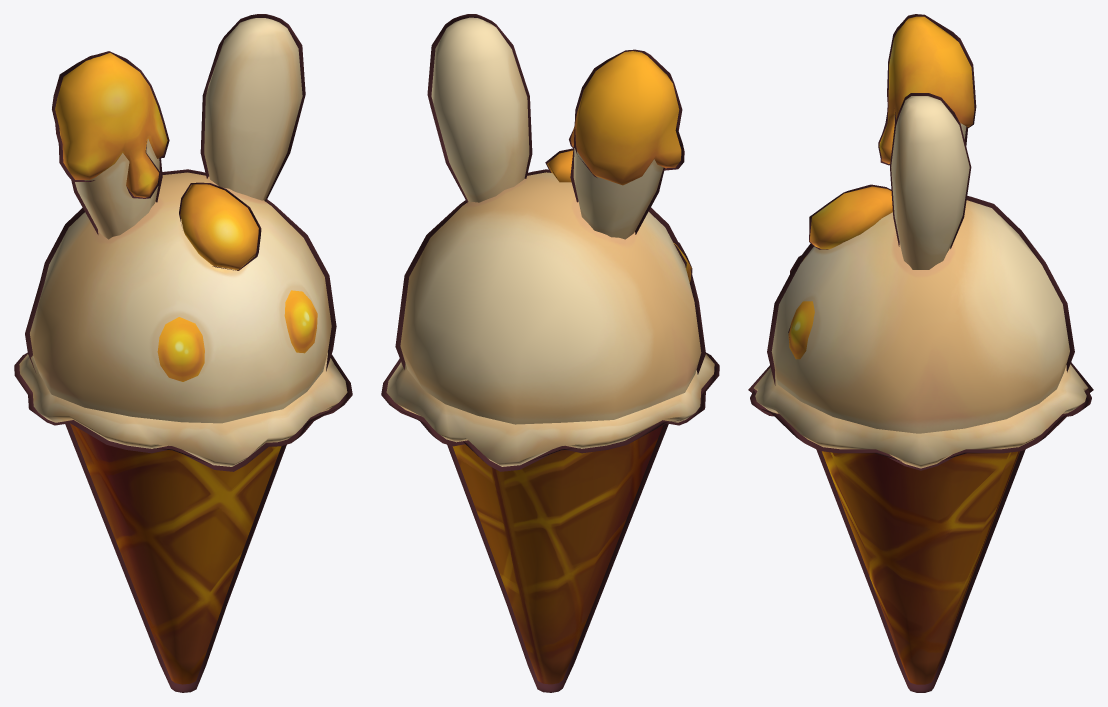
File: hunnyBunny.fbx
The picture shows the model from 3 angles, left to right: view 1: azimuth 30°, elevation 25°; view 2: azimuth 150°, elevation 25°; view 3: azimuth 270°, elevation 25°; orthographic projection. The views are drawn at different scales.
Visible parts, largest first — view 1: honeybunny, honeybunny_outline; view 2: honeybunny, honeybunny_outline; view 3: honeybunny, honeybunny_outline.
Part boxes in pixels (x1,y1,x2,y2): honeybunny: (19, 18, 347, 684); honeybunny_outline: (14, 14, 352, 692); honeybunny: (386, 17, 714, 684); honeybunny_outline: (381, 14, 719, 692); honeybunny: (754, 16, 1087, 684); honeybunny_outline: (748, 14, 1093, 692).
Size of the model in its own units: 49.01 by 106 by 52.21.
1 material, 1 textured.
